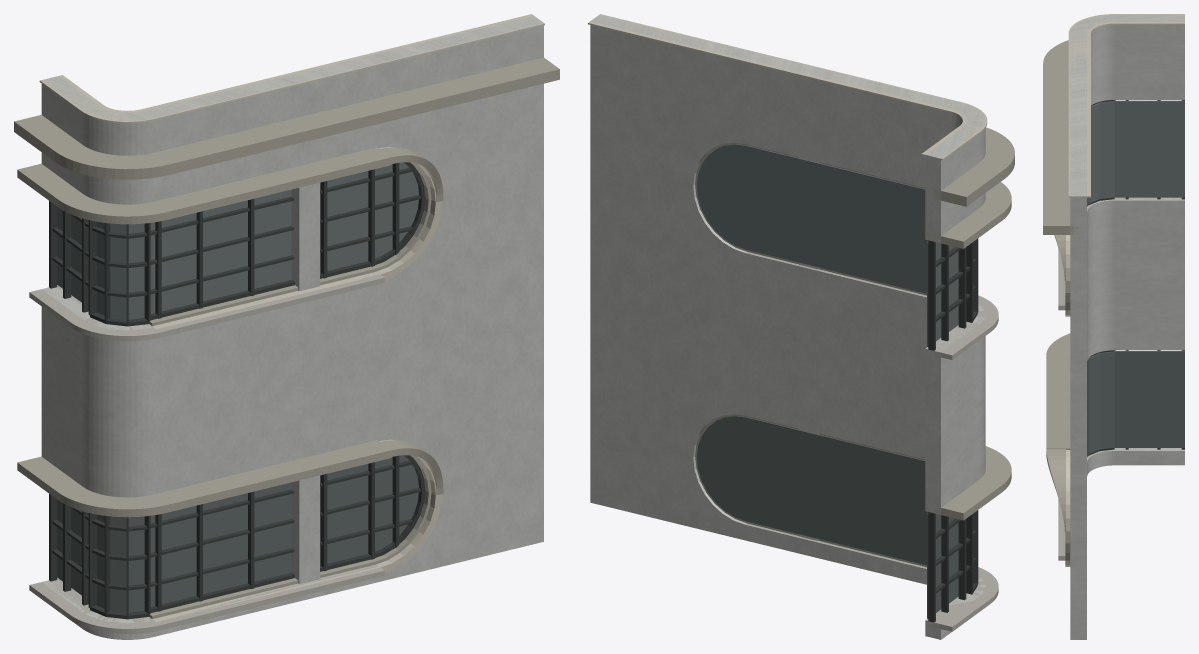
File: rong-garden-windows-far.glb
3 views of the same model, side by side, from view 1: azimuth 30°, elevation 25°; view 2: azimuth 150°, elevation 25°; view 3: azimuth 270°, elevation 25° (orthographic). The views are drawn at different scales.
Parts seen in each view (by area): view 1: 荣氏花园住宅园面双层圆端带窗; view 2: 荣氏花园住宅园面双层圆端带窗; view 3: 荣氏花园住宅园面双层圆端带窗.
Part boxes in pixels (box(x1,y1,x2,y2)): 荣氏花园住宅园面双层圆端带窗: box(14, 14, 559, 639); 荣氏花园住宅园面双层圆端带窗: box(588, 14, 1014, 639); 荣氏花园住宅园面双层圆端带窗: box(1043, 14, 1184, 639).
Bounding box in the file's own units: 5.15 × 5.51 × 1.59.
Materials: 7 (1 with a texture image).
